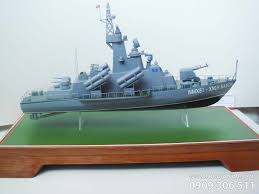tau_muctieu: (16, 16, 232, 106)
